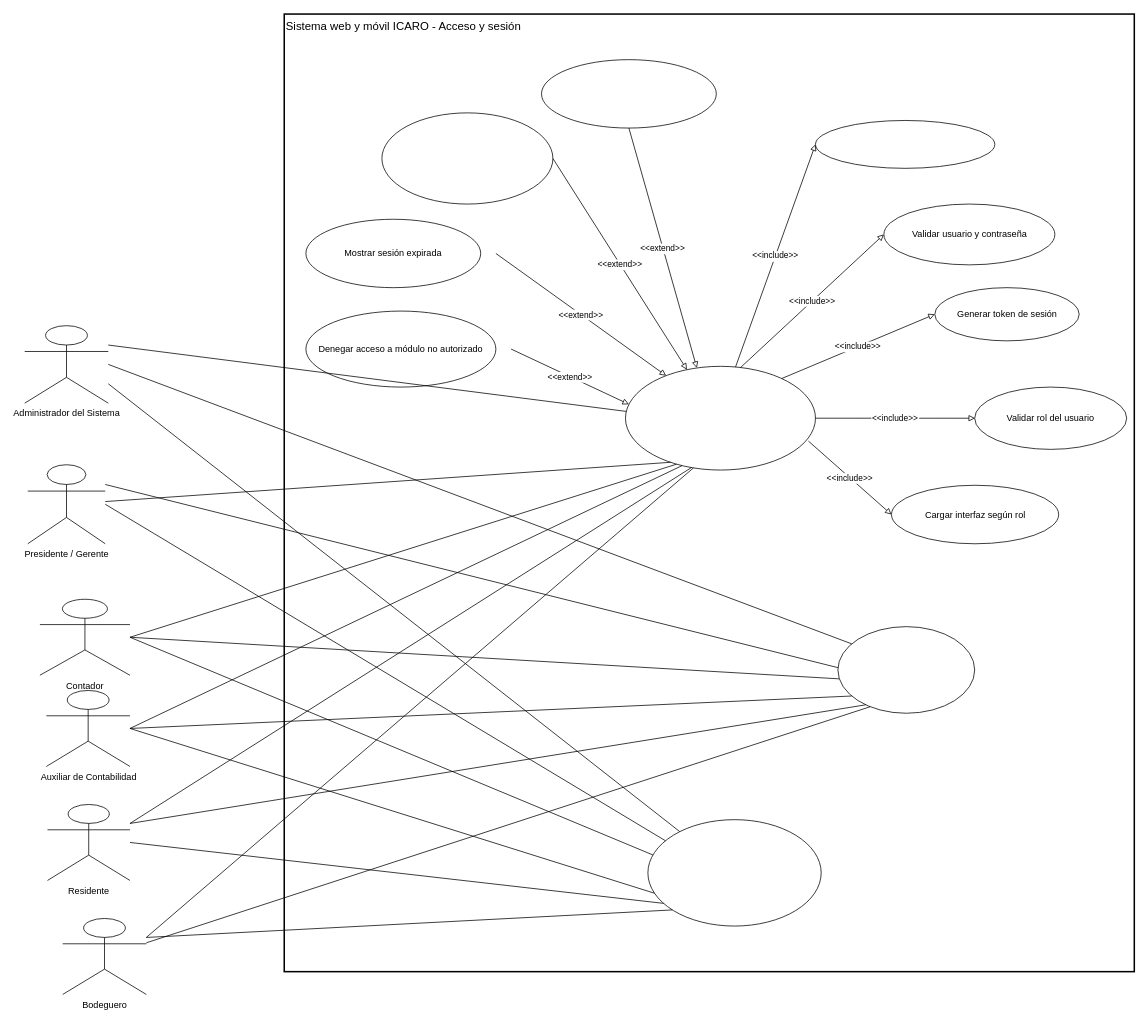
This 1148x1023 diagram has some shape labels left out. Here are the shapes that lost their labels. From the top down, the centre of each, then its label:
At point 628,93: "Rechazar acceso por credenciales inválidas".
At point 467,158: "Bloquear acceso por usuario inactivo".
At point 905,144: "Ingresar credenciales".
At point 720,418: "Autenticarse en el sistema".
At point 906,669: "Cerrar sesión".
At point 734,872: "Recuperar acceso".
